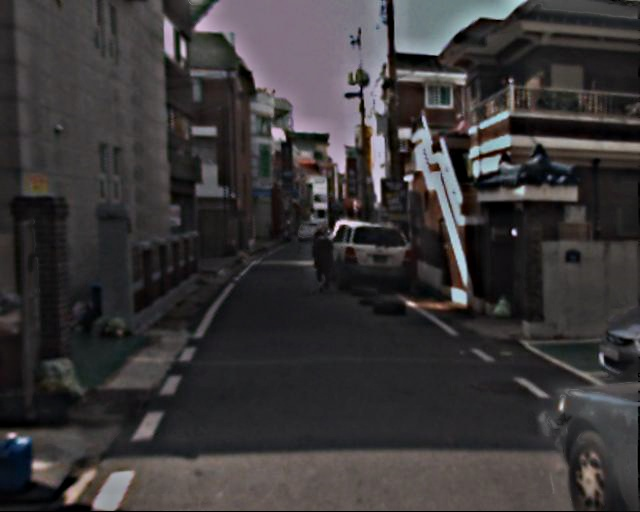person: (310, 230, 336, 293)
